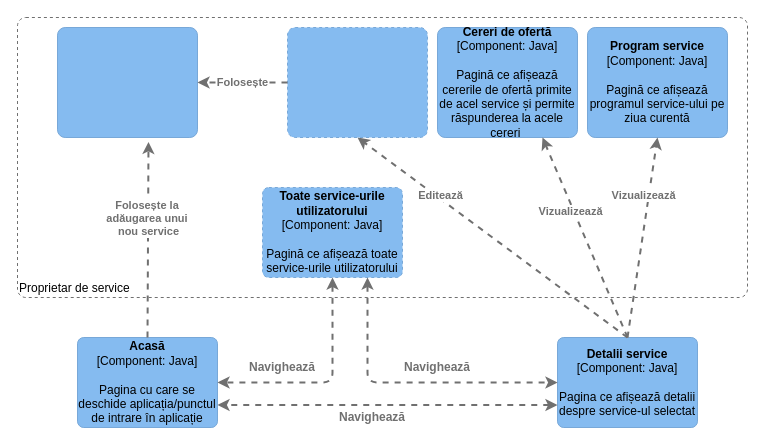
The diagram is 765 pixels wide and 445 high, and some of its shapes have lost their labels. Here are the shapes that lost their labels. From the top down, the centre of each, then its label:
(127,82): Hartă [Component: Google Maps API ] Oferă o hartă pentru a selecta o locație
(357,82): Pop-up [Component: Java ] Editează service-ul
